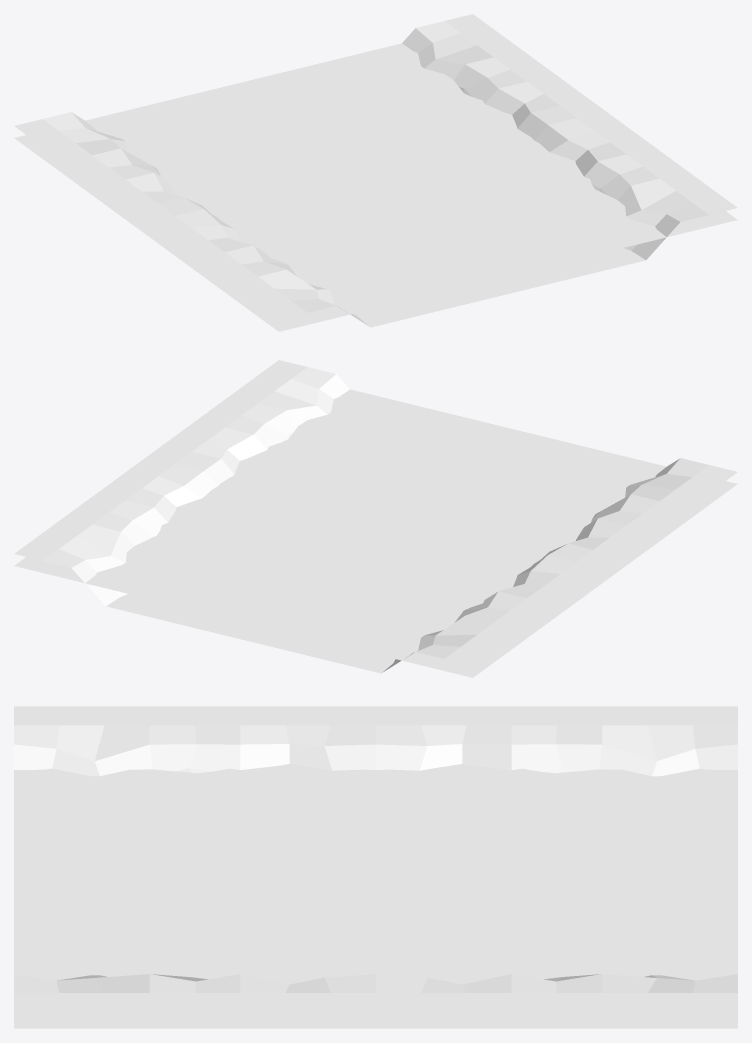
Rendered from ground.river.straight.glb.
3 renders of one model, top to bottom at view 1: azimuth 30°, elevation 25°; view 2: azimuth 150°, elevation 25°; view 3: azimuth 270°, elevation 25°, orthographic. The views are drawn at different scales.
Visible parts, largest first — view 1: ground.river.water.straight, ground.river.straight; view 2: ground.river.water.straight, ground.river.straight; view 3: ground.river.water.straight, ground.river.straight.
Boxes of the visible parts, x1,y1,x2,y2 form: ground.river.water.straight: (14, 43, 737, 331); ground.river.straight: (14, 14, 737, 327); ground.river.water.straight: (14, 389, 737, 677); ground.river.straight: (14, 360, 737, 673); ground.river.water.straight: (14, 764, 737, 1028); ground.river.straight: (14, 706, 737, 1012).
Size of what is drawn, in the model's own units: 4 by 0.25 by 4.
1 material, 1 textured.
